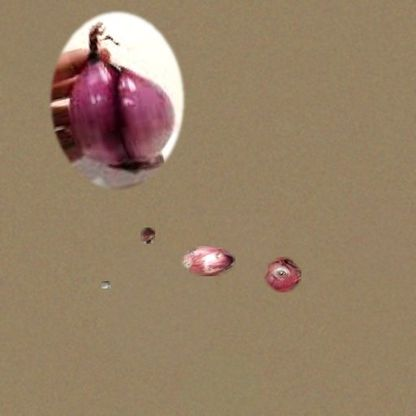damaged: (47, 6, 188, 193)
healthy: (264, 257, 301, 292)
rotten: (181, 246, 236, 276), (102, 281, 110, 288)
sprouted: (141, 228, 155, 244)
